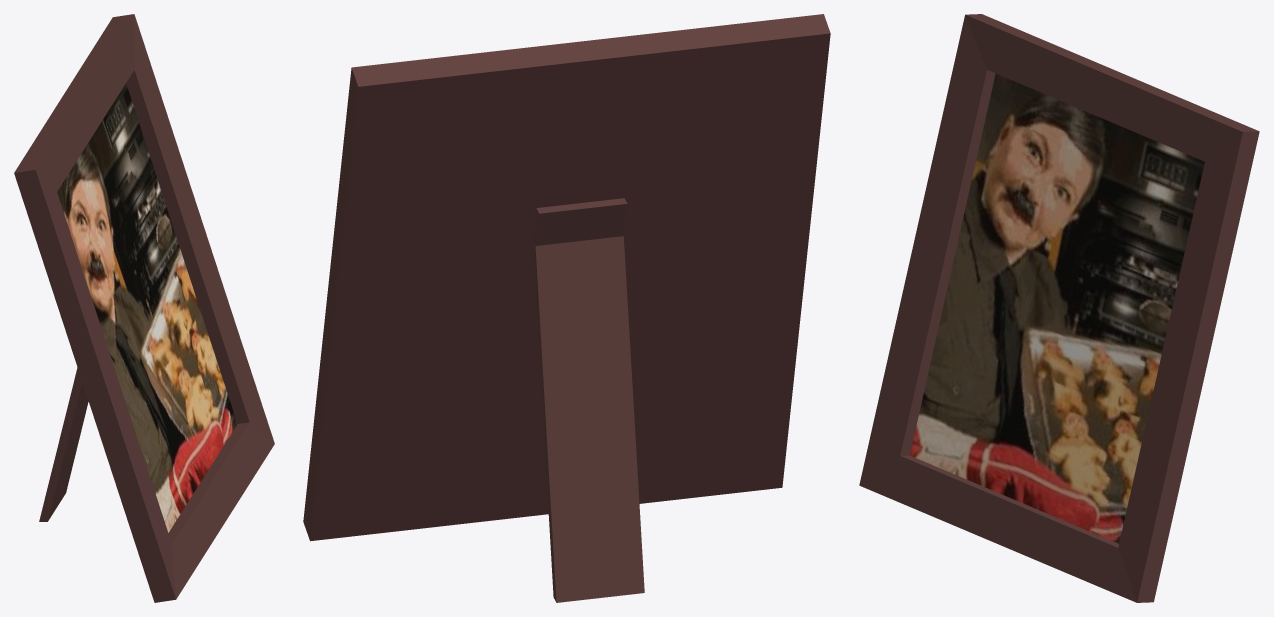
File: Frame.fbx
The picture shows the model from 3 angles, left to right: view 1: azimuth 30°, elevation 25°; view 2: azimuth 150°, elevation 25°; view 3: azimuth 270°, elevation 25°; orthographic projection. The views are drawn at different scales.
Visible parts, largest first — view 1: Frame_Table_Body, Frame_Table_Leg; view 2: Frame_Table_Body, Frame_Table_Leg; view 3: Frame_Table_Body.
Part boxes in pixels (x1,y1,x2,y2): Frame_Table_Body: [14, 14, 274, 602]; Frame_Table_Leg: [39, 367, 88, 521]; Frame_Table_Body: [303, 14, 830, 541]; Frame_Table_Leg: [533, 198, 644, 602]; Frame_Table_Body: [859, 14, 1259, 602].
Size of the model in its own units: 549 by 655 by 550.
